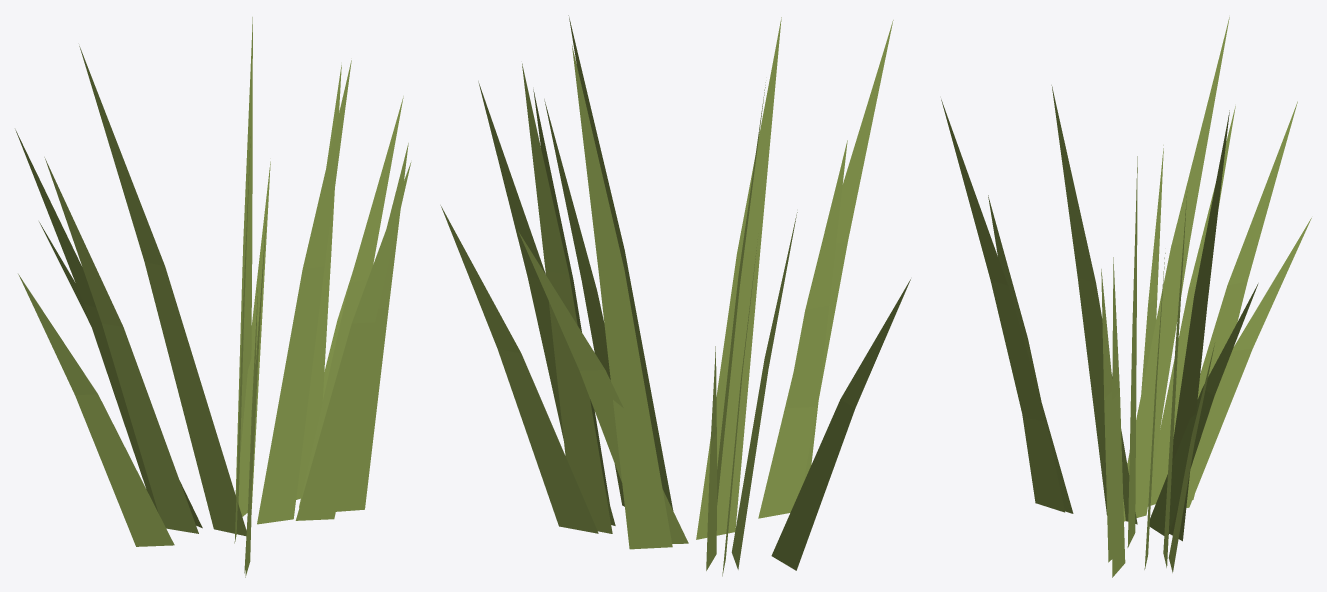
File: Grass_Tuft_Dry.fbx
3 views of the same model, side by side, from view 1: azimuth 30°, elevation 25°; view 2: azimuth 150°, elevation 25°; view 3: azimuth 270°, elevation 25° (orthographic). The views are drawn at different scales.
Visible parts, largest first — view 1: Grass_Tuft_Dry.001; view 2: Grass_Tuft_Dry.001; view 3: Grass_Tuft_Dry.001.
Boxes of the visible parts, x1,y1,x2,y2 form: Grass_Tuft_Dry.001: (15,17,411,577); Grass_Tuft_Dry.001: (440,15,910,576); Grass_Tuft_Dry.001: (941,17,1311,577).
Size of the model in its own units: 0.4225 by 0.4877 by 0.3591.
